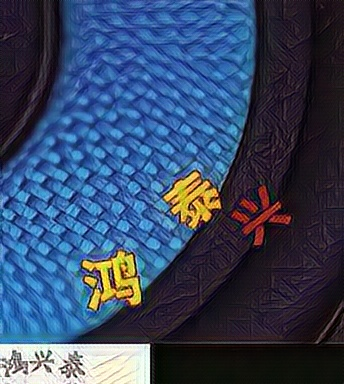BAE8: (80, 248, 146, 312)
CCA9: (159, 170, 225, 234)
D0CB: (227, 185, 293, 249)
